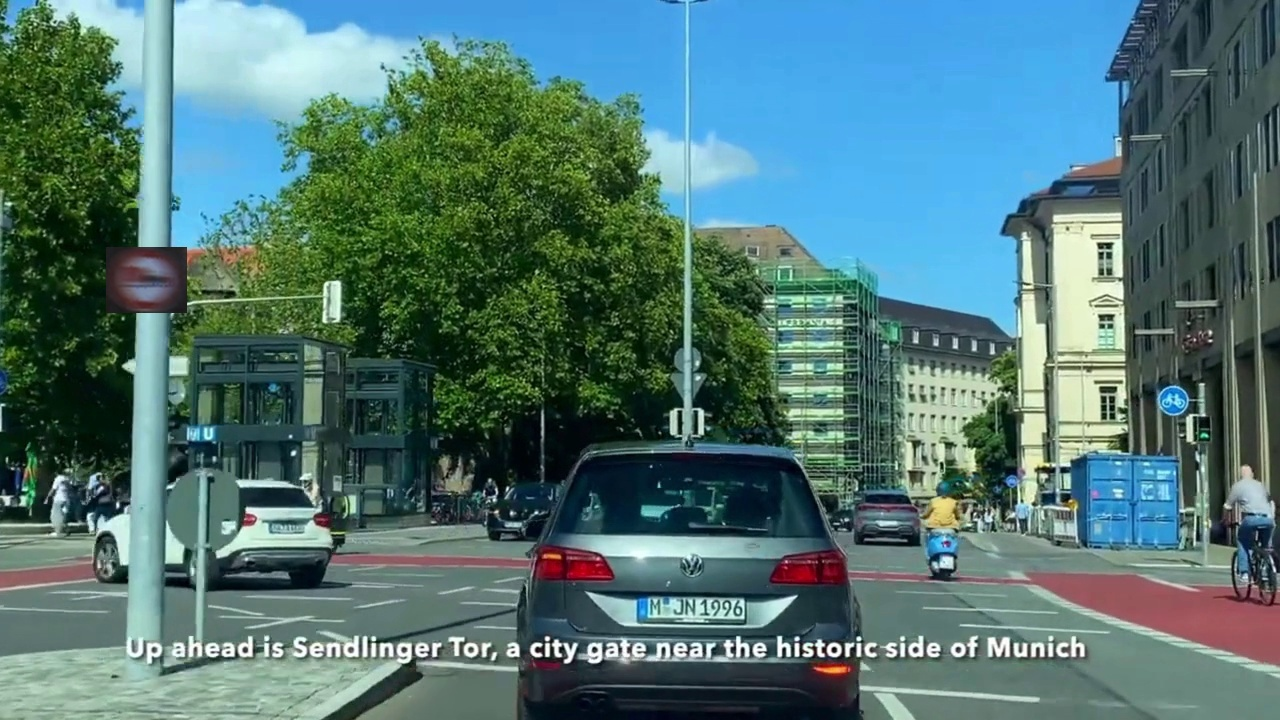No pass >3.5t: (106, 247, 187, 313)
